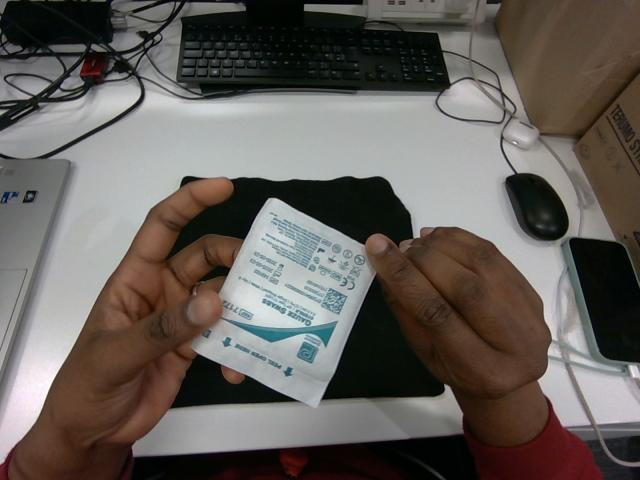gauze: (193, 198, 374, 406)
